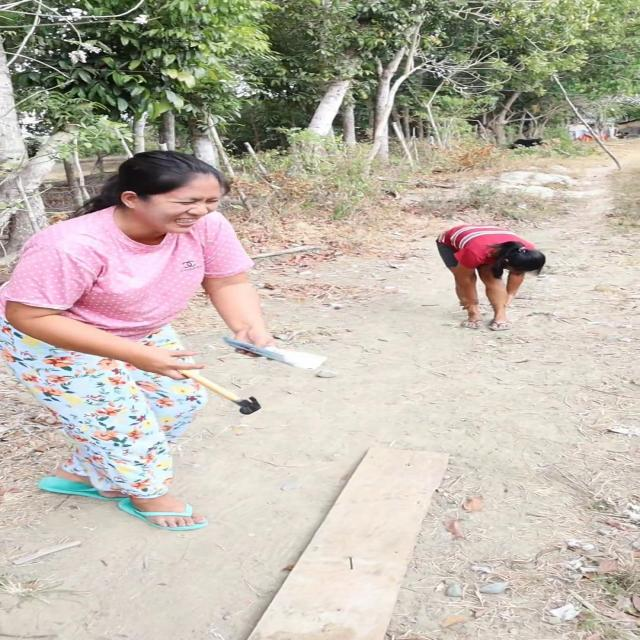hammer: (173, 366, 264, 416)
